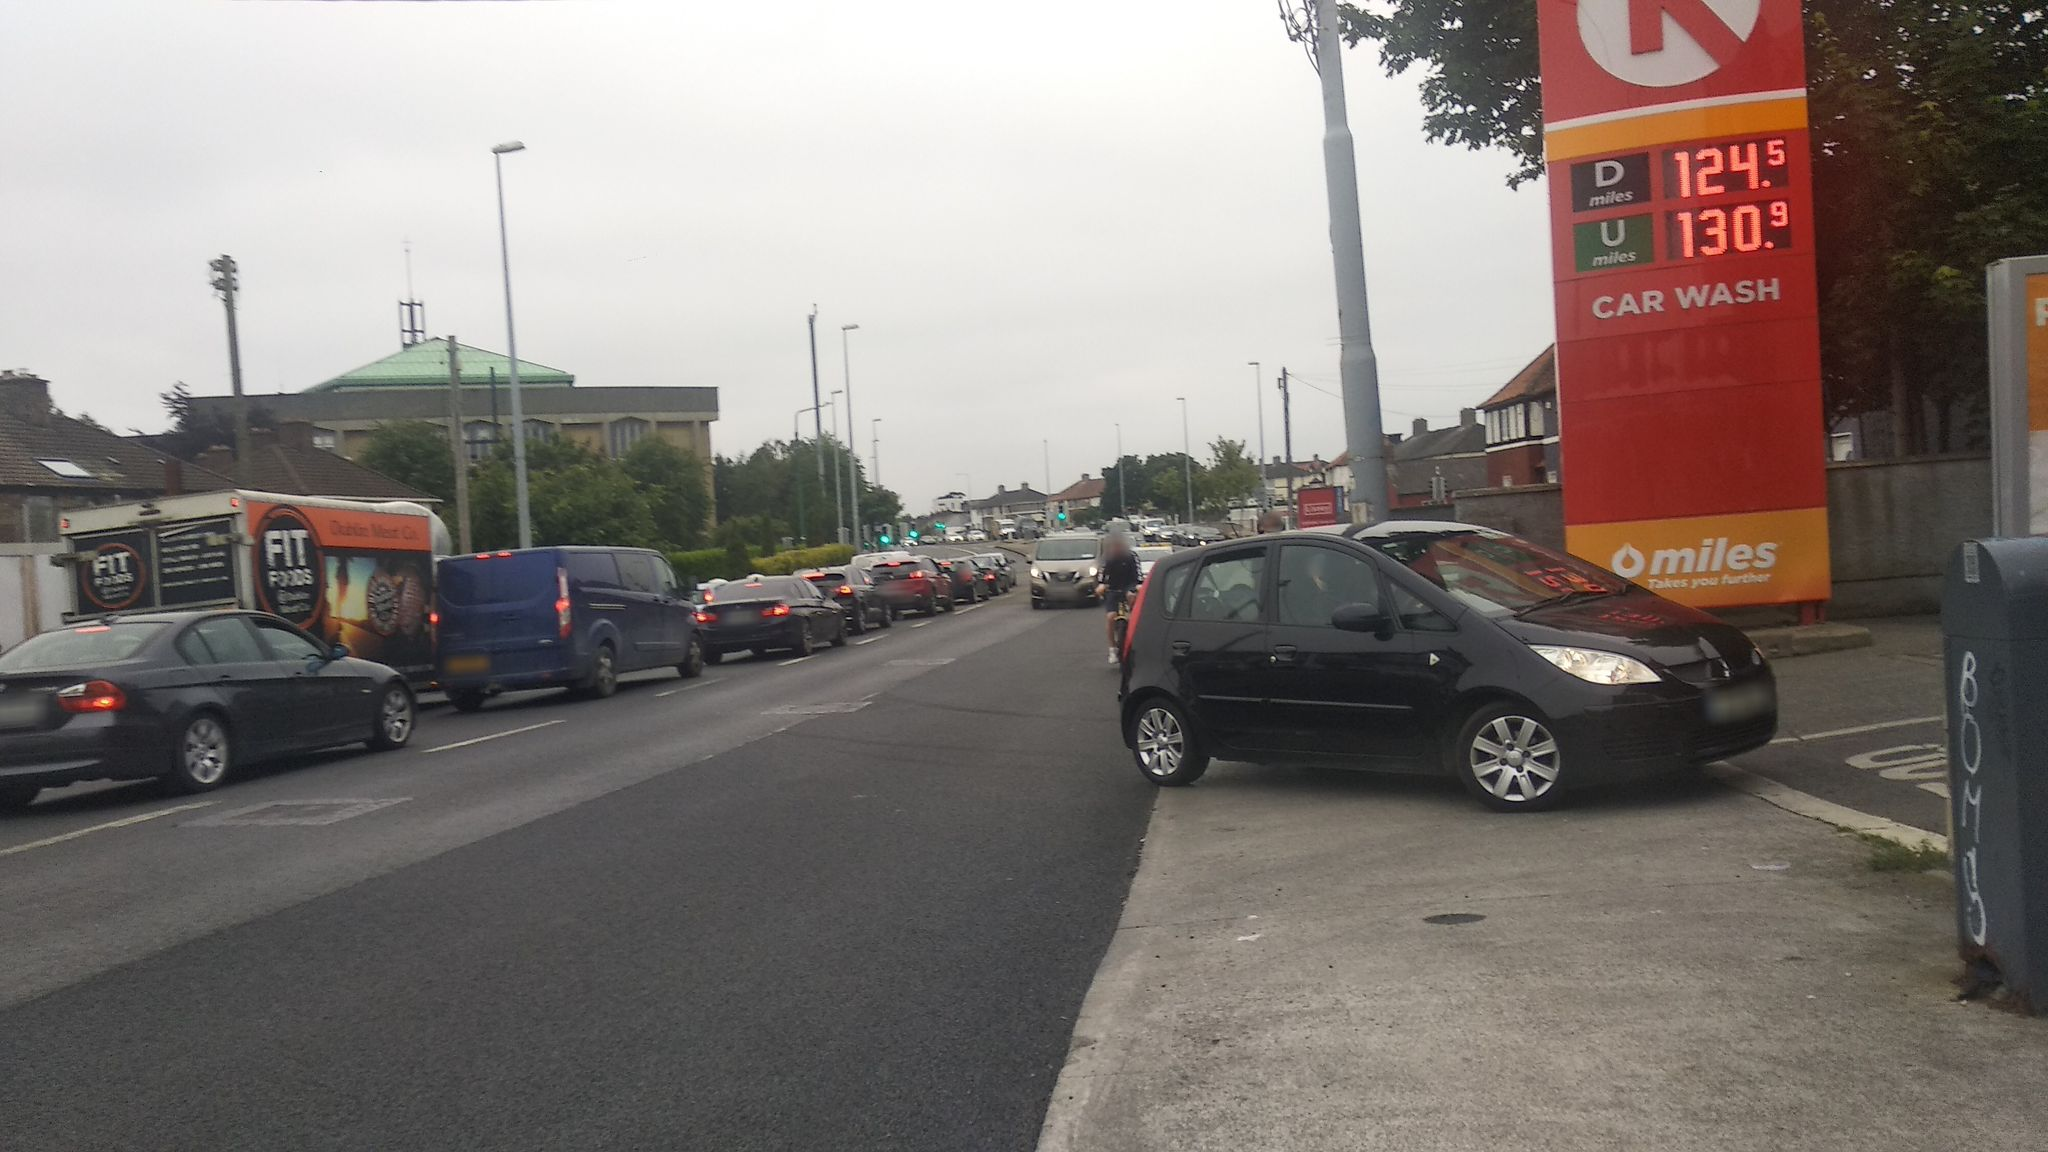property sign: (1283, 478, 1355, 537)
